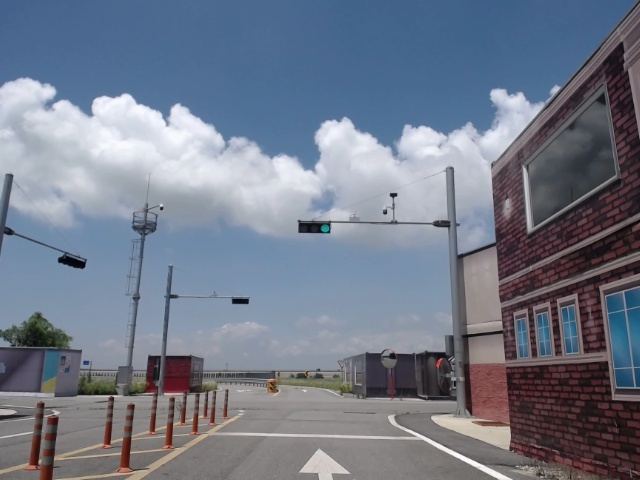green_3: (299, 222, 330, 231)
